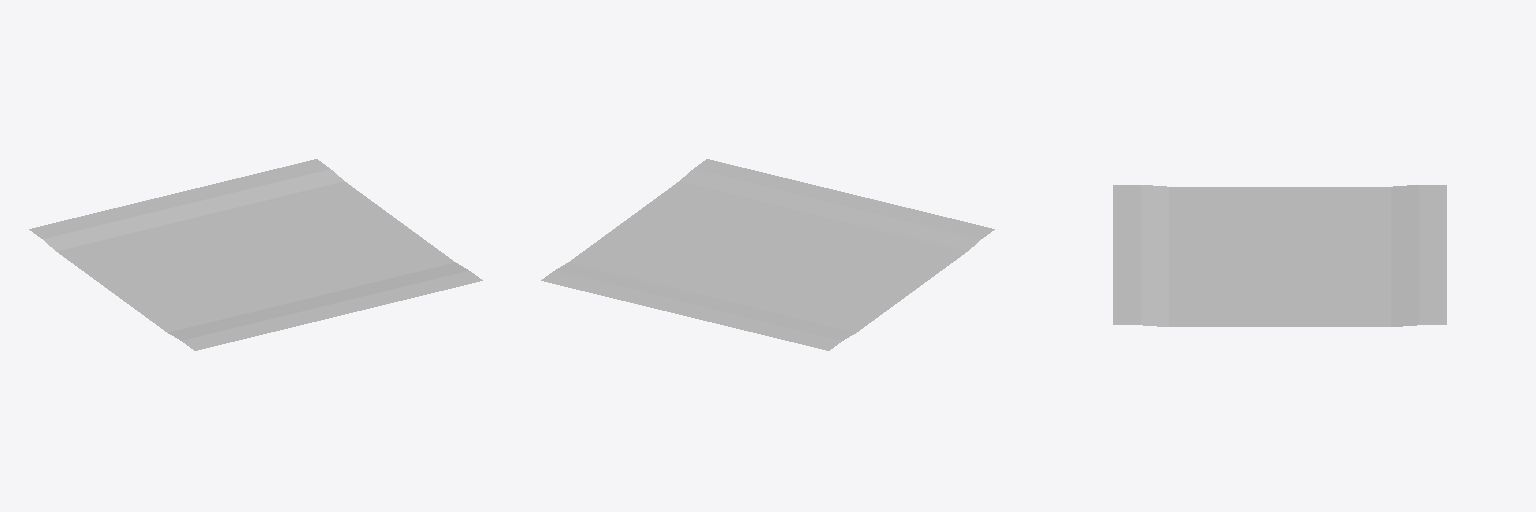
The model's file is ModularTracksMyOwn.obj.
3 views of the same model, side by side, from view 1: azimuth 30°, elevation 25°; view 2: azimuth 150°, elevation 25°; view 3: azimuth 270°, elevation 25° (orthographic).
Parts seen in each view (by area): view 1: Track_line_type_01_start_finish_15m_free_Plane.006; view 2: Track_line_type_01_start_finish_15m_free_Plane.006; view 3: Track_line_type_01_start_finish_15m_free_Plane.006.
Part boxes in pixels (x1,y1,x2,y2): Track_line_type_01_start_finish_15m_free_Plane.006: (29, 159, 482, 350); Track_line_type_01_start_finish_15m_free_Plane.006: (541, 159, 994, 350); Track_line_type_01_start_finish_15m_free_Plane.006: (1113, 185, 1446, 326).
Size of the model in its own units: 15 by 0.1 by 15.